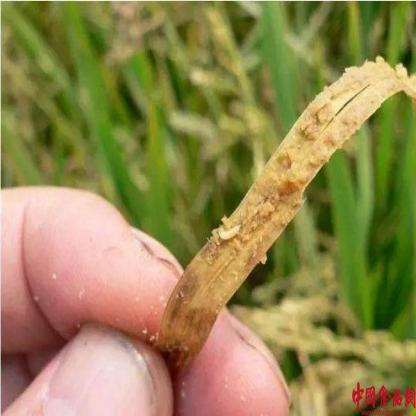whorl-maggot: (218, 221, 245, 245)
